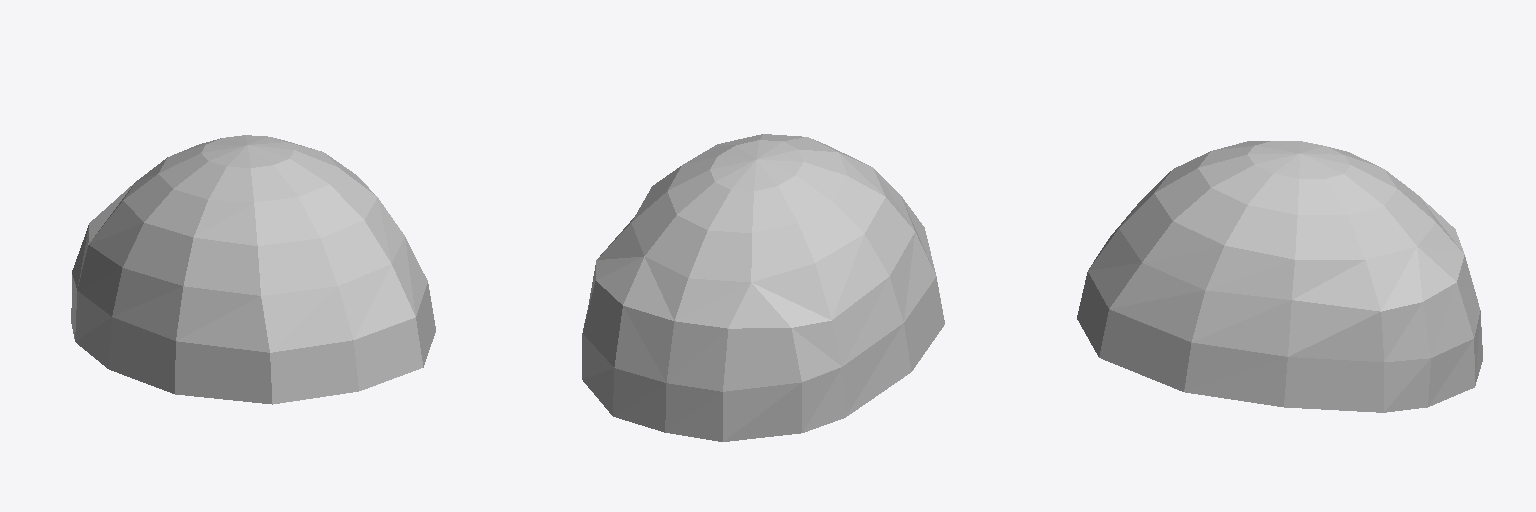
Rendered from beanie.obj.
The picture shows the model from 3 angles: view 1: azimuth 30°, elevation 25°; view 2: azimuth 150°, elevation 25°; view 3: azimuth 270°, elevation 25°; orthographic projection.
Parts seen in each view (by area): view 1: head; view 2: head; view 3: head.
Boxes of the visible parts, x1,y1,x2,y2 form: head: [71, 135, 435, 404]; head: [582, 134, 944, 441]; head: [1077, 141, 1482, 412].
Bounding box in the file's own units: 0.1829 × 0.124 × 0.2212.